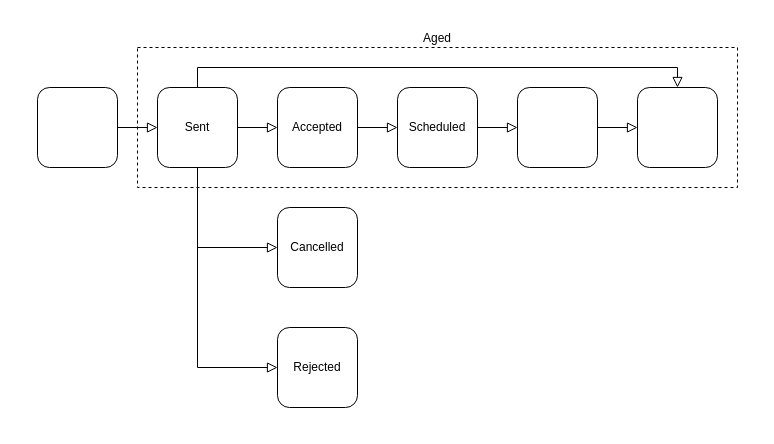
Some shapes in this 774 by 444 pixel diagram are drawn without their labels. The shapes that lost their labels are listed below. From the top down, each one's centre as x and y in pixels, then its label:
the point at 77,127: Written
the point at 557,127: Seen
the point at 677,127: Completed
